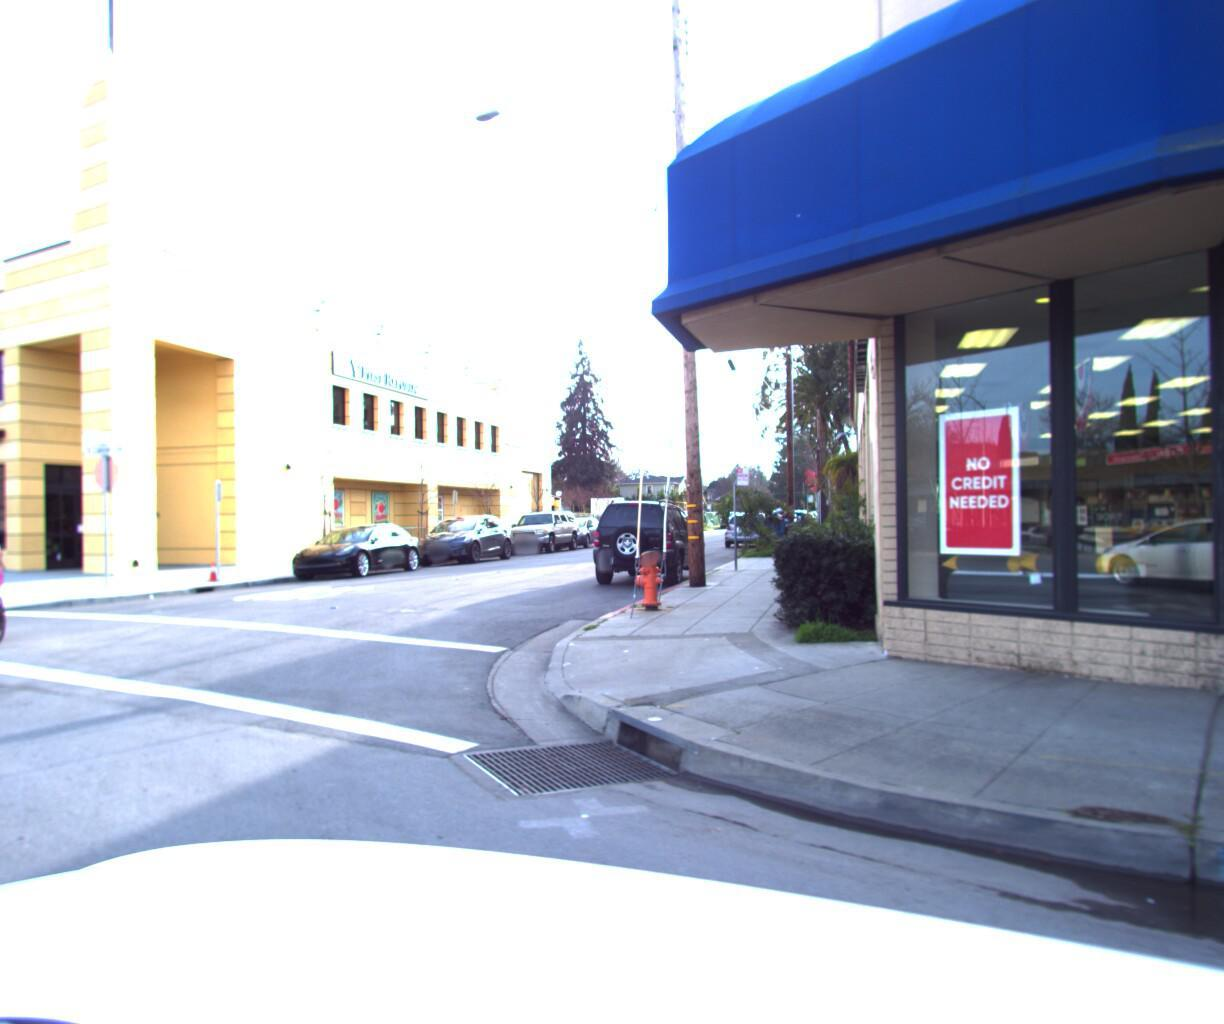car: (576, 490, 702, 582), (277, 518, 427, 581), (403, 508, 517, 562), (495, 506, 582, 552)
